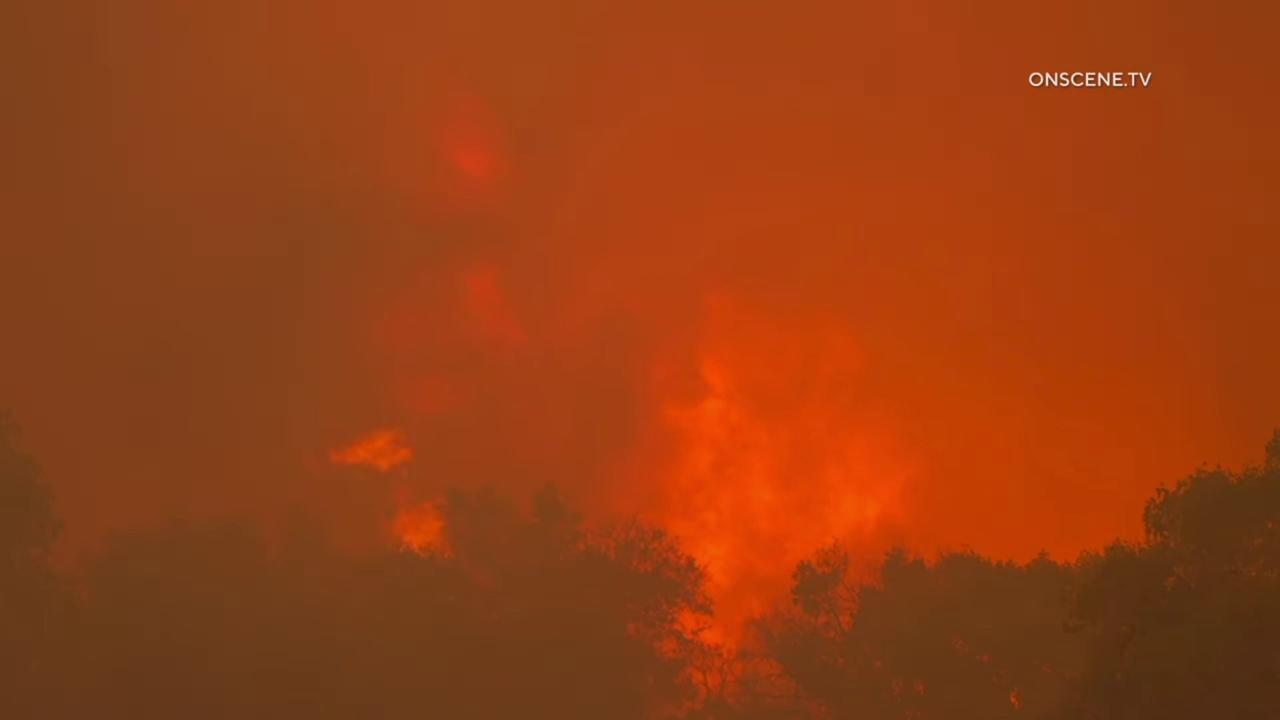fire: (623, 287, 930, 720), (377, 486, 457, 567), (328, 425, 417, 475)
smoke: (0, 0, 1280, 720)
